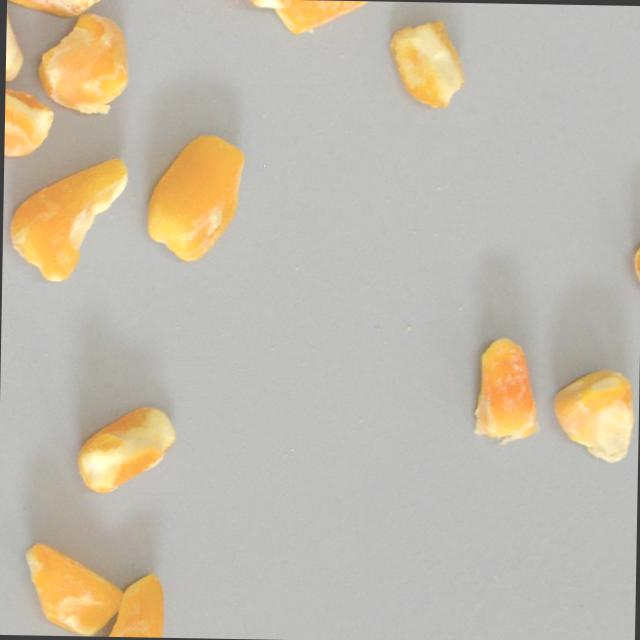entero: (549, 367, 634, 465)
pelicula: (4, 154, 129, 284), (142, 133, 245, 263), (33, 7, 133, 117), (18, 541, 123, 635), (74, 404, 176, 494), (466, 332, 540, 443), (387, 18, 465, 108), (82, 569, 169, 637), (3, 68, 55, 157), (271, 0, 378, 34), (5, 0, 112, 15), (4, 0, 23, 82), (632, 228, 640, 315)
